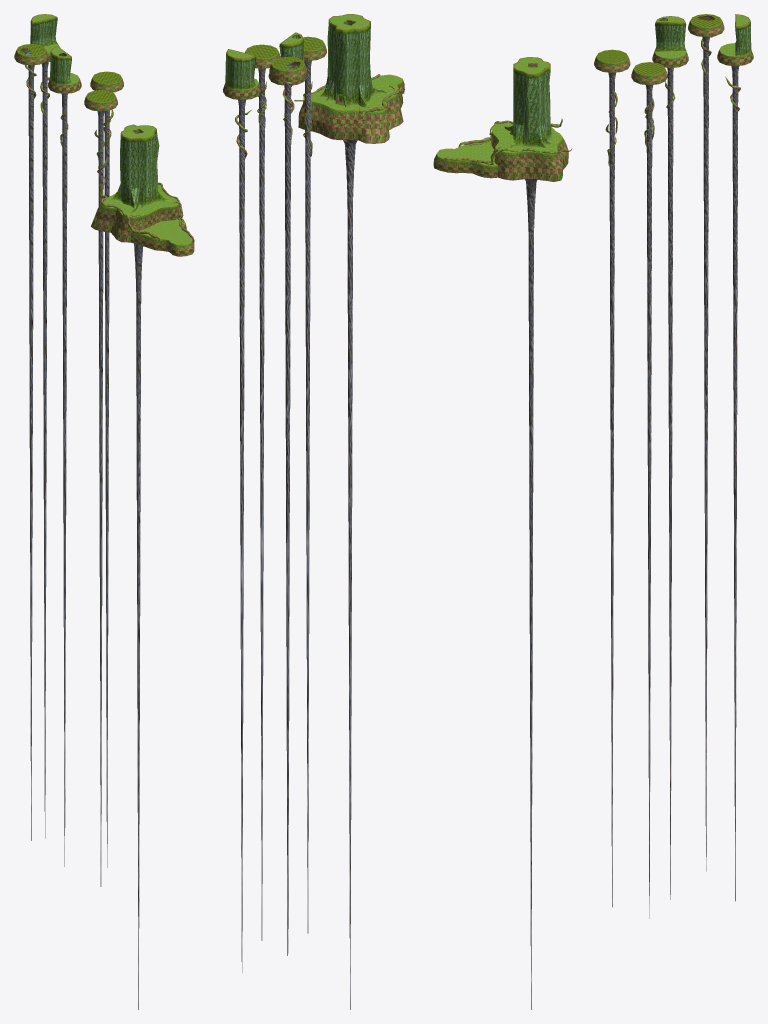
File: Frog Forest 4.fbx
3 renders of one model, left to right at view 1: azimuth 30°, elevation 25°; view 2: azimuth 150°, elevation 25°; view 3: azimuth 270°, elevation 25°, orthographic. The views are drawn at different scales.
Visible parts, largest first — view 1: Object_2.003, Object_2.002; view 2: Object_2.003, Object_2.002; view 3: Object_2.003, Object_2.002.
Part boxes in pixels (left/top/right/bottom): Object_2.003: left=14, top=17, right=194, bottom=1009; Object_2.002: left=16, top=14, right=192, bottom=244; Object_2.003: left=223, top=20, right=404, bottom=1009; Object_2.002: left=226, top=14, right=402, bottom=111; Object_2.003: left=433, top=15, right=753, bottom=1009; Object_2.002: left=437, top=14, right=750, bottom=165.
Size of the model in its own units: 60430 by 674374 by 197600.
